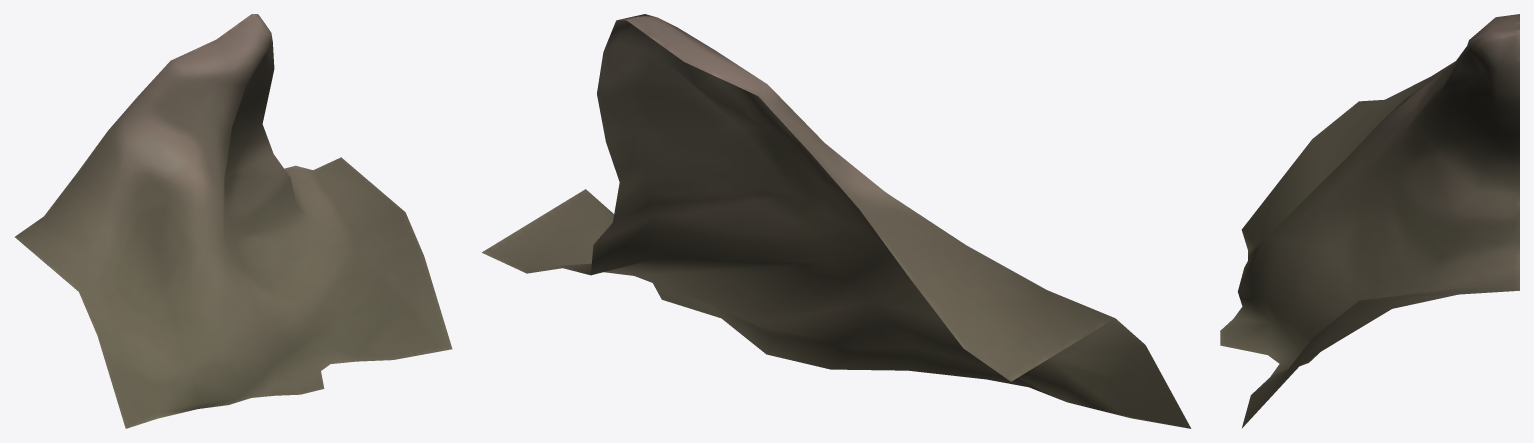
The model's file is Border_Rock_5.FBX.
The picture shows the model from 3 angles, left to right: view 1: azimuth 30°, elevation 25°; view 2: azimuth 150°, elevation 25°; view 3: azimuth 270°, elevation 25°; orthographic projection. The views are drawn at different scales.
Visible parts, largest first — view 1: Border_Rock_5; view 2: Border_Rock_5; view 3: Border_Rock_5.
Boxes of the visible parts, <box> form: Border_Rock_5: <box>15,14,452,428</box>; Border_Rock_5: <box>482,14,1191,428</box>; Border_Rock_5: <box>1220,14,1519,427</box>.
Size of the model in its own units: 400 by 322 by 254.
